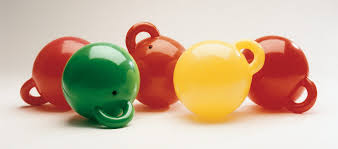buoy: (244, 36, 317, 114), (33, 37, 103, 111), (121, 37, 187, 108)
